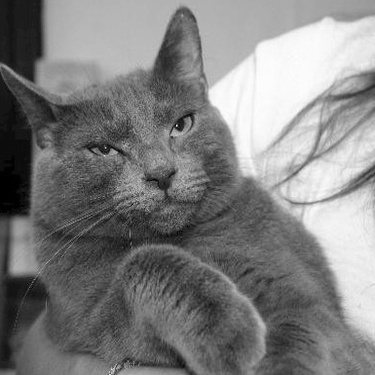cat: (2, 9, 370, 370)
